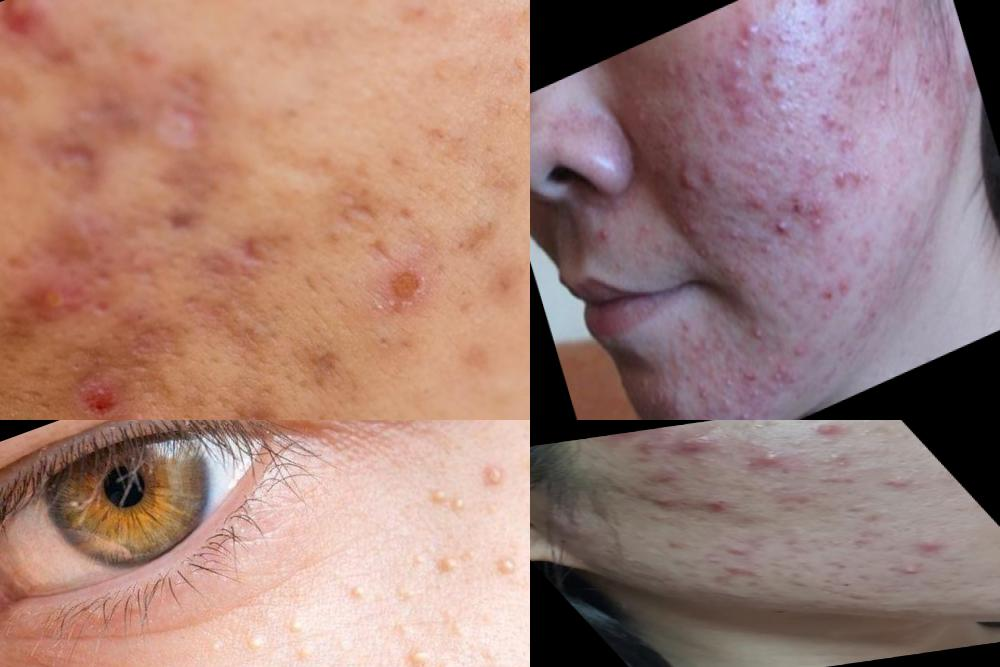acne_scars: (112, 74, 238, 184), (15, 121, 120, 212)
cystic: (669, 152, 707, 212)
milium: (229, 606, 342, 667), (405, 526, 485, 596), (381, 613, 472, 667), (415, 471, 485, 535), (471, 451, 519, 501), (338, 572, 375, 611), (489, 546, 525, 582)
papular: (1, 1, 113, 122), (5, 241, 112, 344), (717, 53, 769, 132), (853, 28, 893, 85), (817, 96, 858, 151), (773, 421, 855, 446), (763, 203, 800, 251), (817, 269, 858, 309), (758, 58, 789, 105), (737, 361, 770, 404), (733, 14, 765, 58), (677, 326, 712, 366), (795, 1, 847, 26), (772, 98, 803, 137), (749, 231, 781, 268), (723, 214, 754, 251), (695, 499, 747, 521), (897, 540, 952, 559), (795, 144, 821, 176), (795, 49, 817, 81)
purulent: (580, 208, 627, 263), (685, 227, 727, 276), (734, 311, 776, 358), (881, 557, 947, 585), (740, 181, 774, 229), (688, 377, 719, 412), (727, 401, 766, 421)
sebo-crystan-conglo: (785, 181, 833, 249), (760, 354, 809, 408), (829, 150, 871, 202), (650, 434, 728, 459), (738, 449, 812, 474), (619, 489, 683, 513)
whitehead: (868, 473, 926, 496), (818, 450, 866, 473), (806, 472, 863, 491), (676, 454, 723, 473), (834, 499, 884, 516)
